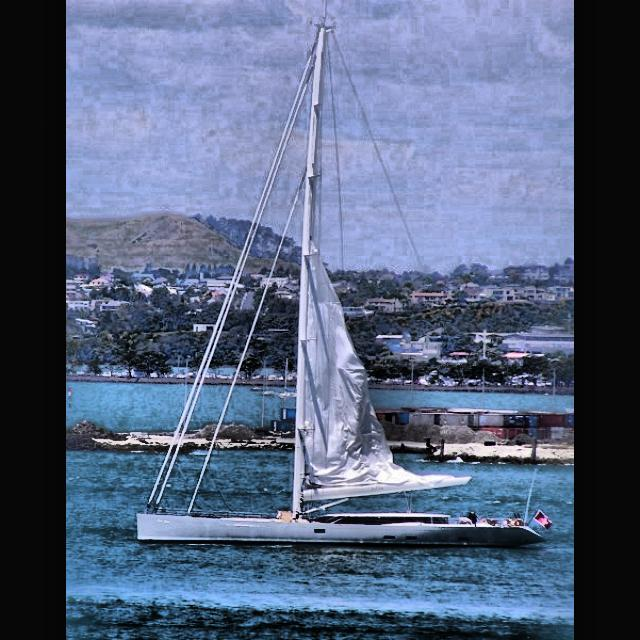sailing_vessel: (134, 19, 556, 550)
